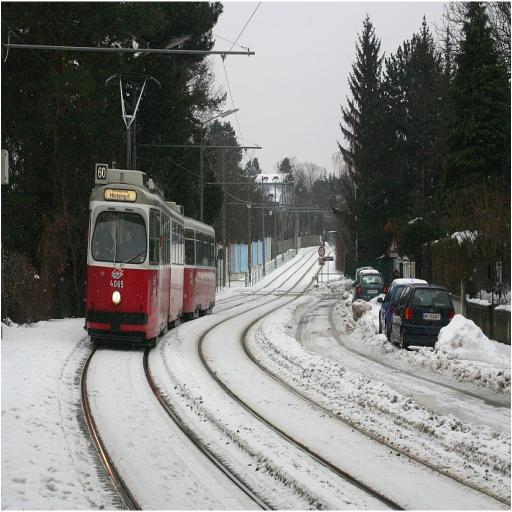E2-Tram: (83, 161, 220, 361)
